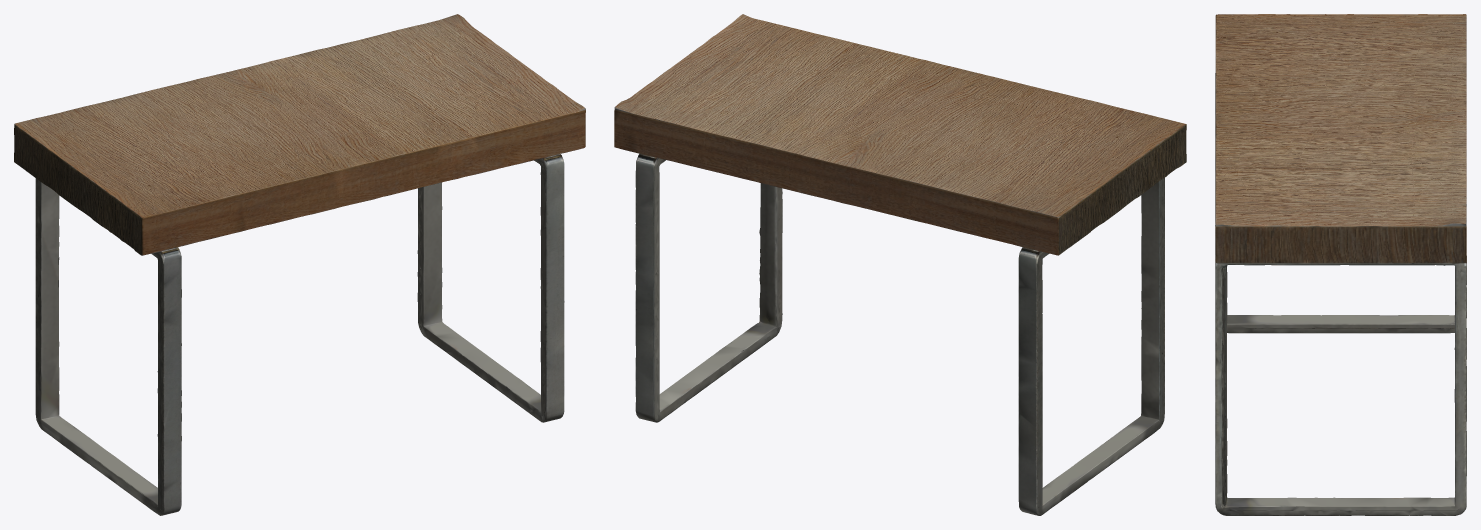
Rendered from table_v01_with VARCO.fbx.
3 views of the same model, side by side, from view 1: azimuth 30°, elevation 25°; view 2: azimuth 150°, elevation 25°; view 3: azimuth 270°, elevation 25° (orthographic). The views are drawn at different scales.
Parts seen in each view (by area): view 1: Table; view 2: Table; view 3: Table.
Part boxes in pixels (x1,y1,x2,y2): Table: (14,14,585,515); Table: (614,14,1186,515); Table: (1215,14,1466,515).
Bounding box in the file's own units: 112 × 74.99 × 56.37.
Materials: 1 (1 with a texture image).
